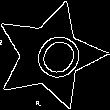O_SW: (16, 22, 83, 89)
